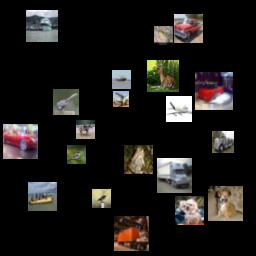airplane: (166, 96, 192, 122), (113, 91, 129, 107)
automobile: (195, 72, 233, 110), (3, 124, 38, 159), (174, 14, 203, 43)
bird: (53, 89, 79, 115), (67, 145, 86, 164), (92, 189, 111, 208)
deer: (147, 60, 179, 92)
dog: (208, 186, 243, 221), (175, 196, 204, 225)
frog: (124, 145, 153, 174), (154, 26, 173, 45)
ship: (26, 10, 58, 42), (28, 182, 57, 211), (112, 70, 131, 89)
truck: (114, 216, 149, 251), (157, 158, 192, 193), (212, 131, 234, 153)
